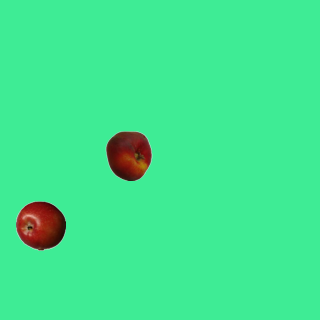Apple Braeburn: (15, 200, 65, 250)
Nectarine Flat: (103, 130, 153, 180)
